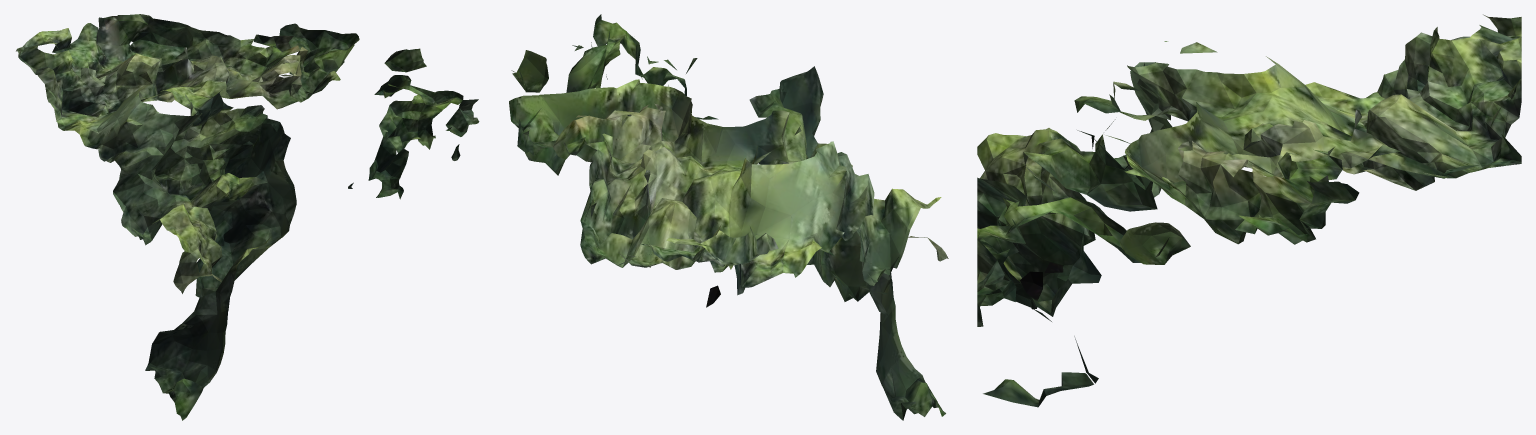
3 views of the same model, side by side, from view 1: azimuth 30°, elevation 25°; view 2: azimuth 150°, elevation 25°; view 3: azimuth 270°, elevation 25° (orthographic). The views are drawn at different scales.
Bounding box in the file's own units: 52.22 × 43.08 × 52.22.
Materials: 4 (4 with a texture image).
